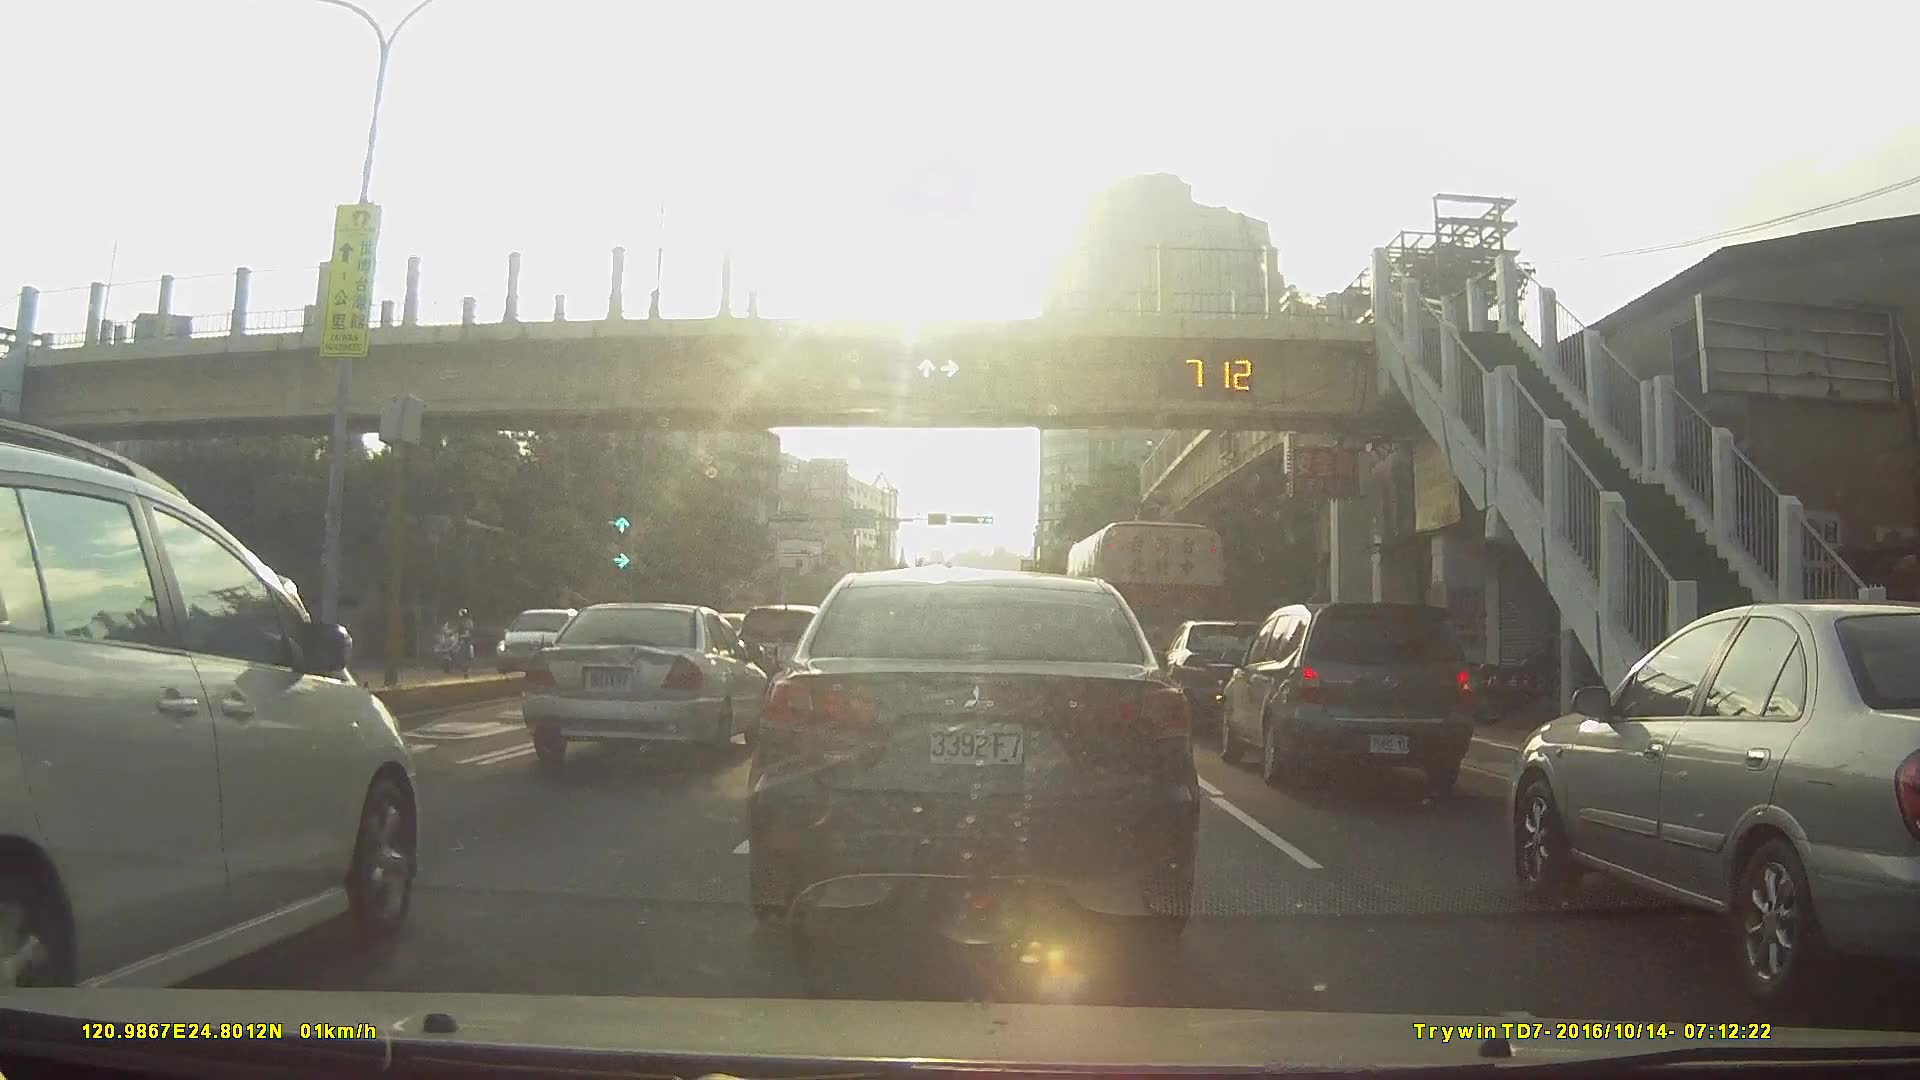rider: (435, 608, 477, 676)
vehicle: (0, 418, 434, 1027), (754, 564, 1199, 945), (1510, 597, 1920, 1009), (1219, 600, 1476, 791), (531, 602, 780, 763), (1160, 619, 1289, 725), (726, 601, 831, 704), (486, 607, 599, 675)
